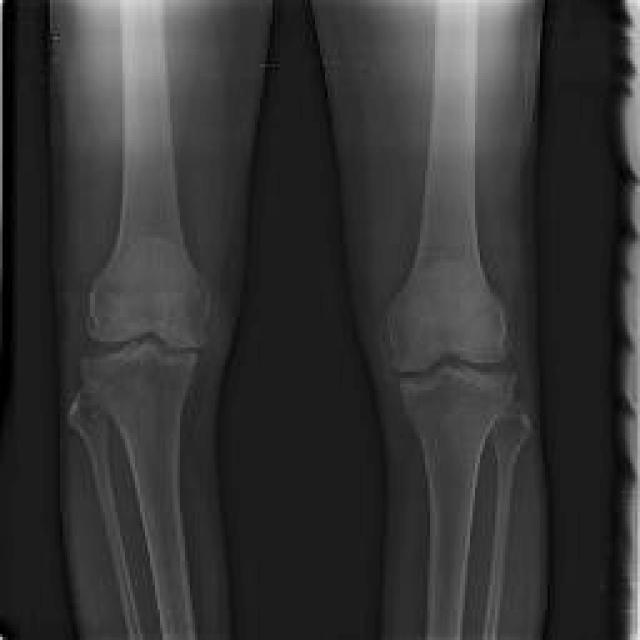normal: (383, 0, 519, 367), (86, 0, 207, 346), (80, 341, 199, 639), (402, 372, 513, 640), (71, 388, 140, 640), (482, 416, 532, 639)
